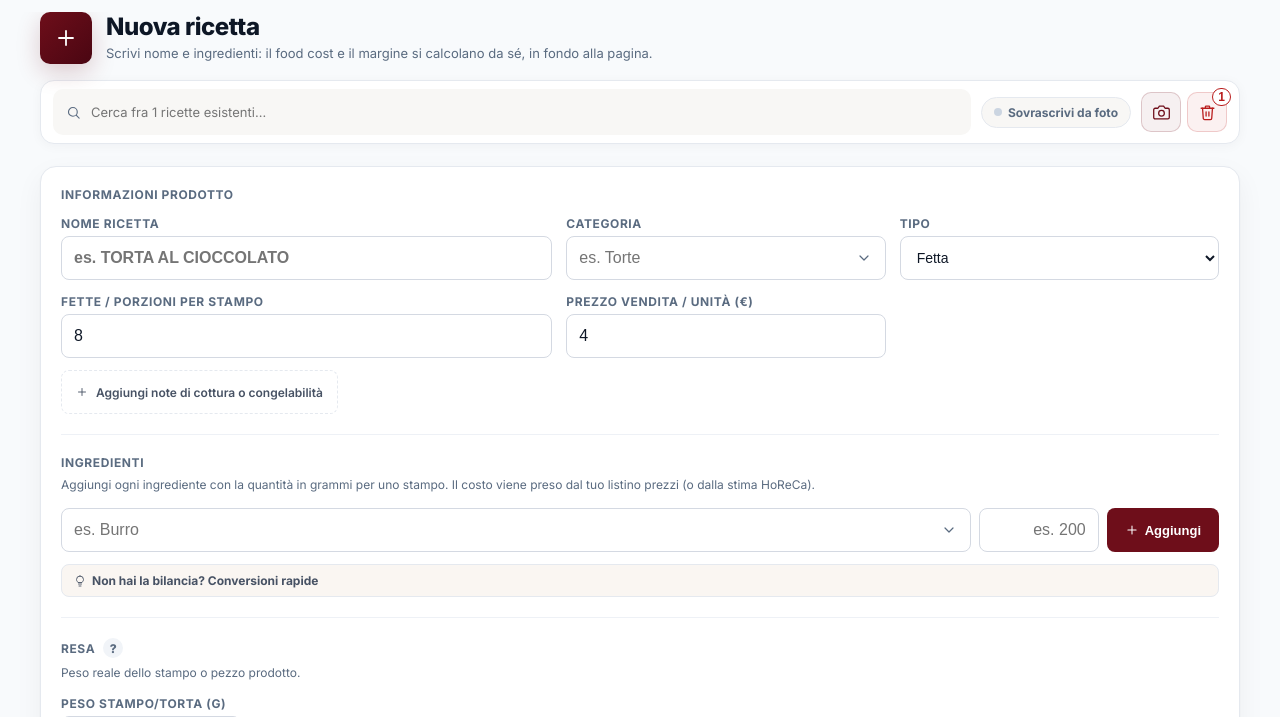
Test case: Nuovo gusto - il plurale non cancella il prezzo della materia prima › LA CORREZIONE: la riga entra con la chiave giusta e col suo costo
Type "Bacche di vaniglia" into the dropdown named "nome ingrediente da aggiungere" at [516, 530], box [61,508,971,552]
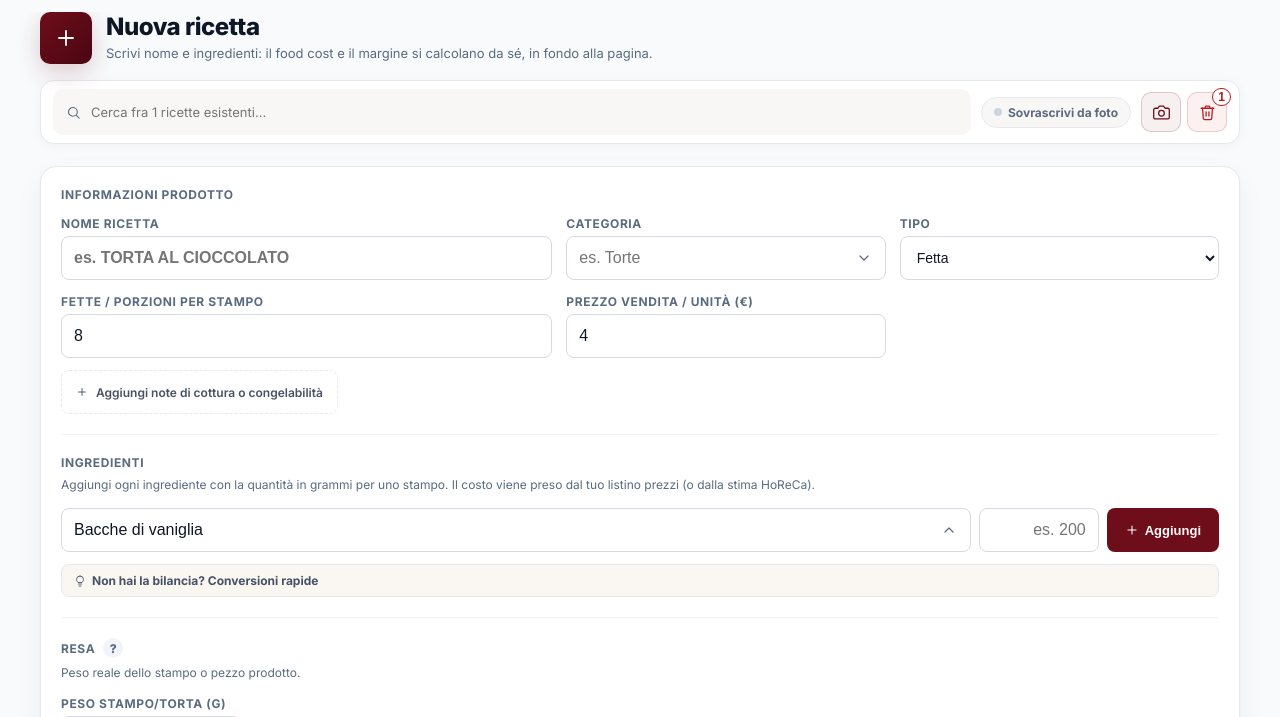
Type "5" into the field named "grammi di ingrediente da aggiungere" at [1039, 530], box [979,508,1099,552]
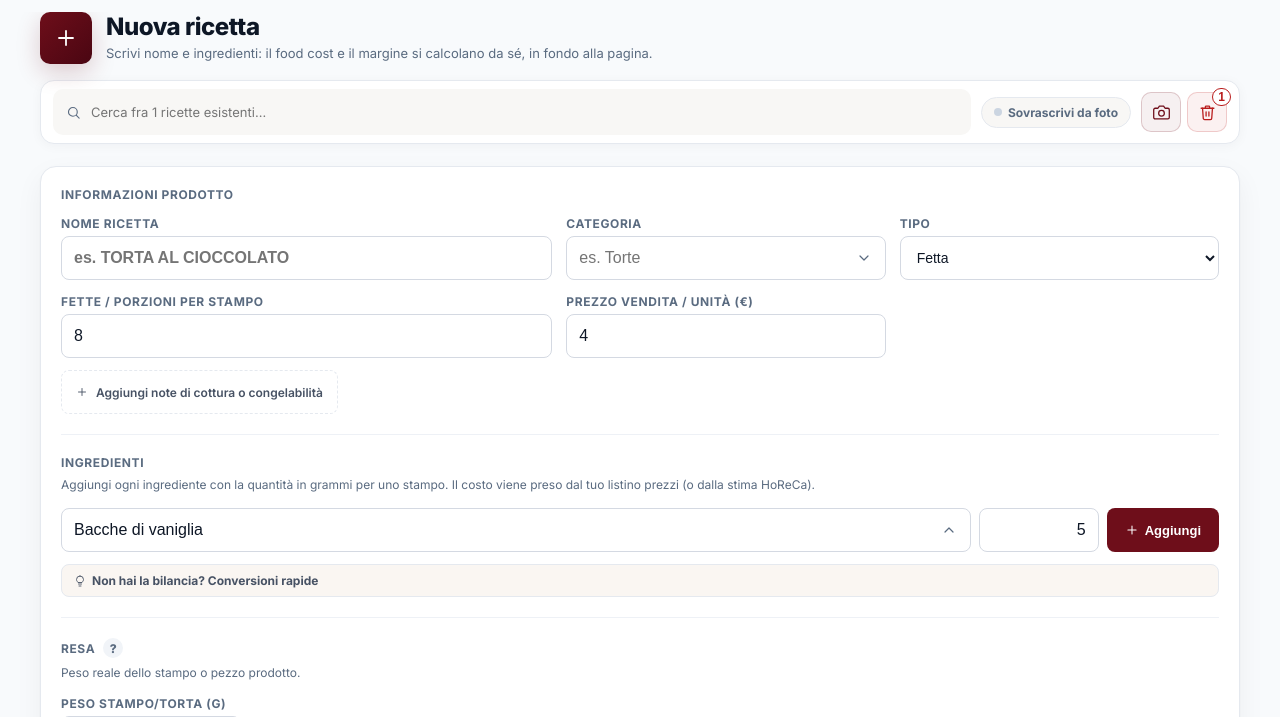
Click the button with aria-label "Aggiungi ingrediente alla ricetta" at [1163, 530], box [1107,508,1219,552]
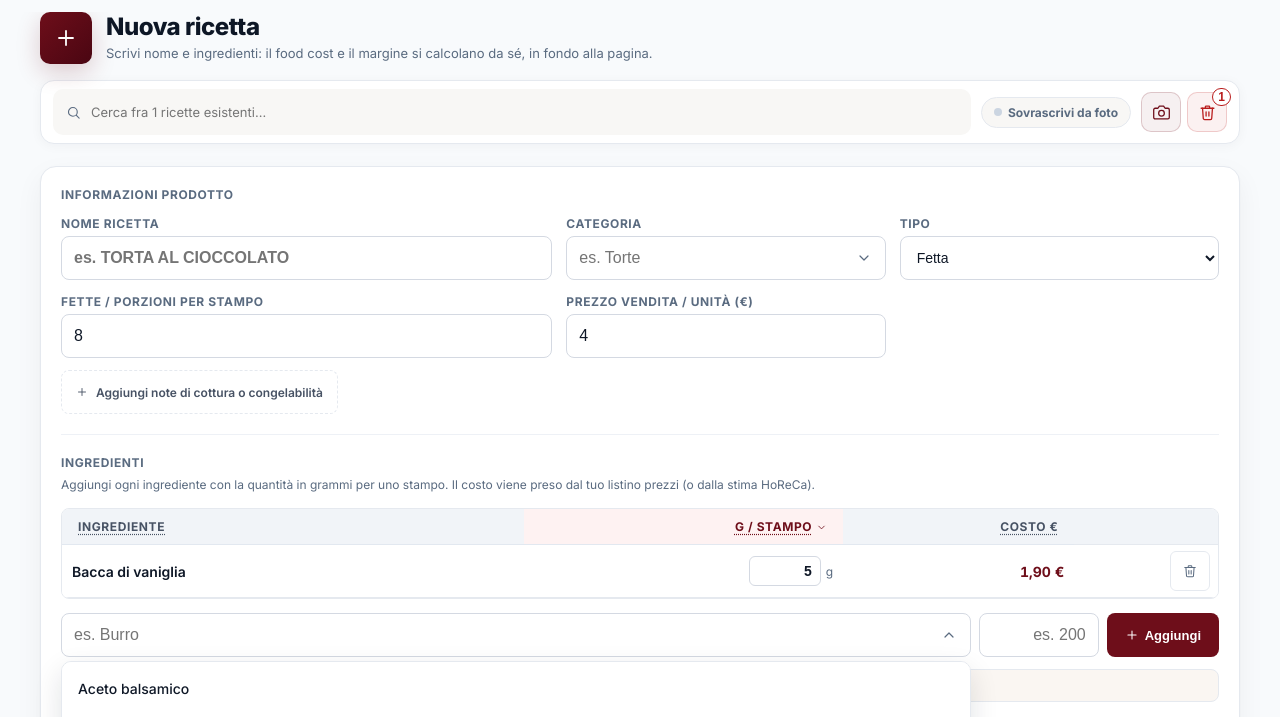
Now the text "1,90 €" is shown, box [843,544,1074,598]
